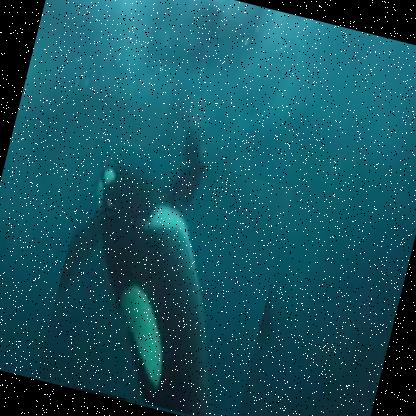killer_whale: (36, 138, 296, 415)
